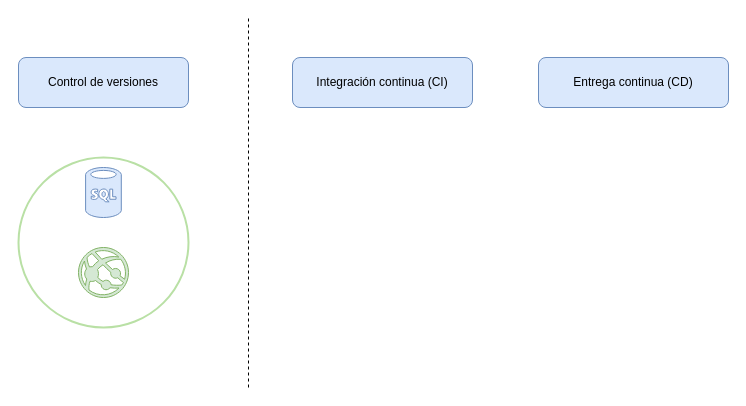
The diagram is 746 pixels wide and 406 high, and some of its shapes have lost their labels. Each missing label, with the centre of its shape:
API: point (103, 272)
DB: point (103, 192)
